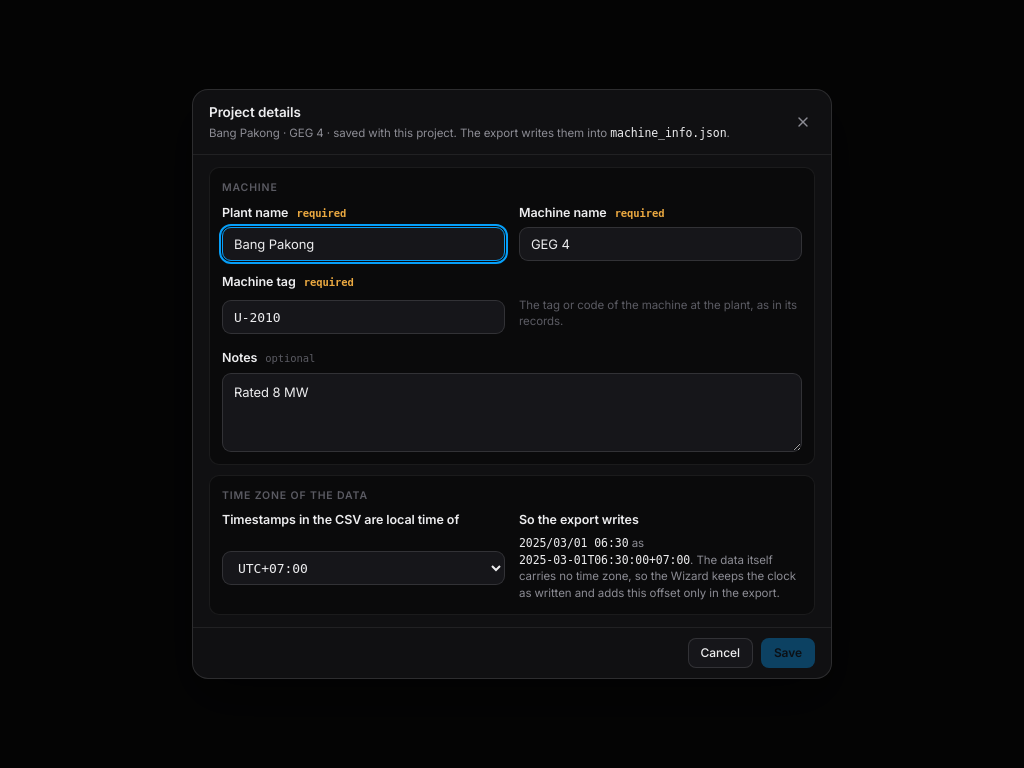
Test: ProjectDetailsModal › shows how the export writes a timestamp with the chosen offset (no-wrap), using the data's first timestamp when known
Expected: the element with test id "pdm-iso-example" shows "2025/03/01 06:30 as 2025-03-01T06:30:00+07:00", x1=519 y1=535 x2=802 y2=602
Select "UTC-03:30" in the dropdown labelled "Timestamps in the CSV are local time of" at (364,568), box x1=222 y1=551 x2=505 y2=585
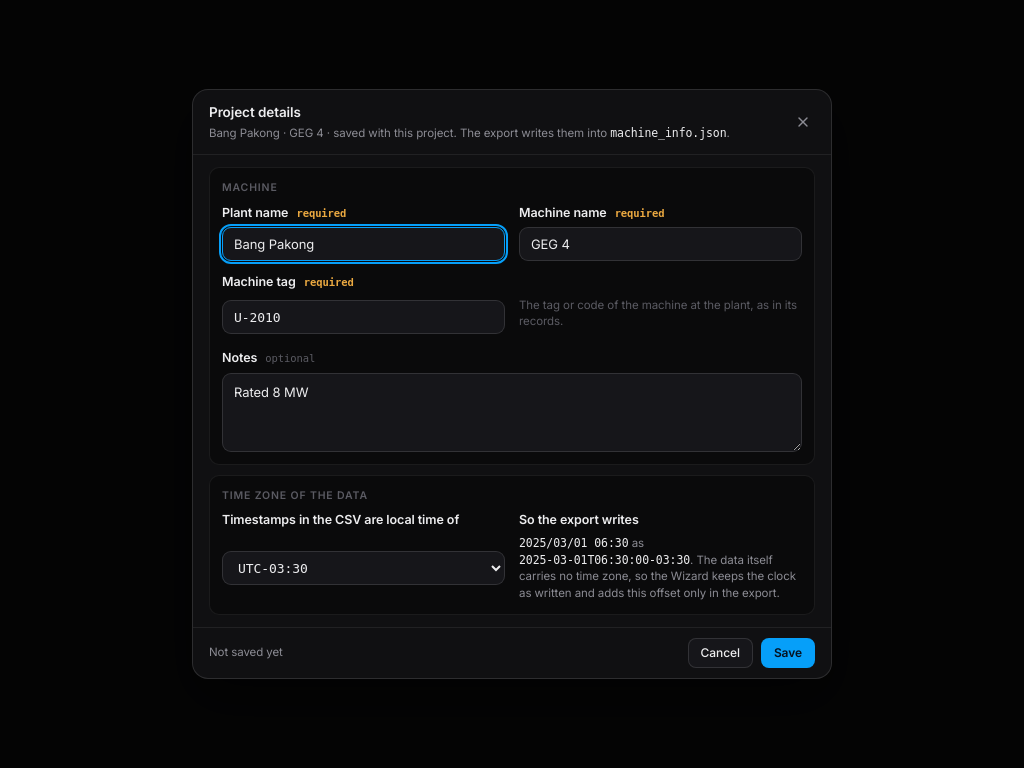
Now the element with test id "pdm-iso-example" shows "2025-03-01T06:30:00-03:30", box x1=519 y1=553 x2=690 y2=567
